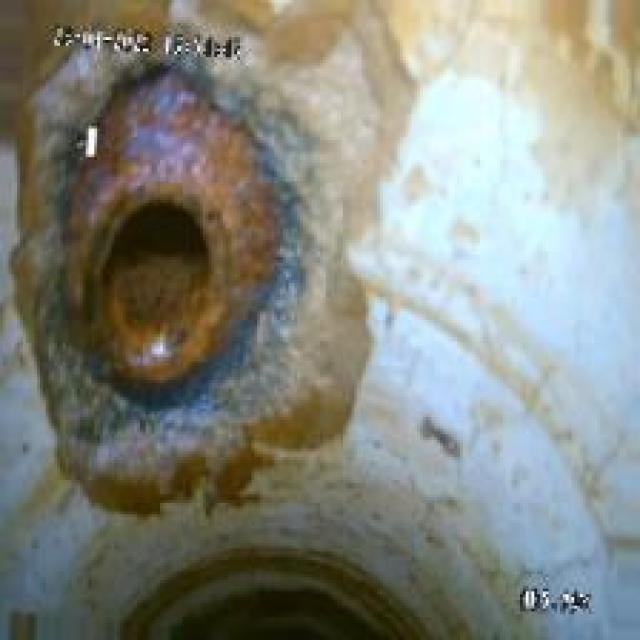ferrule: (40, 80, 286, 409)
